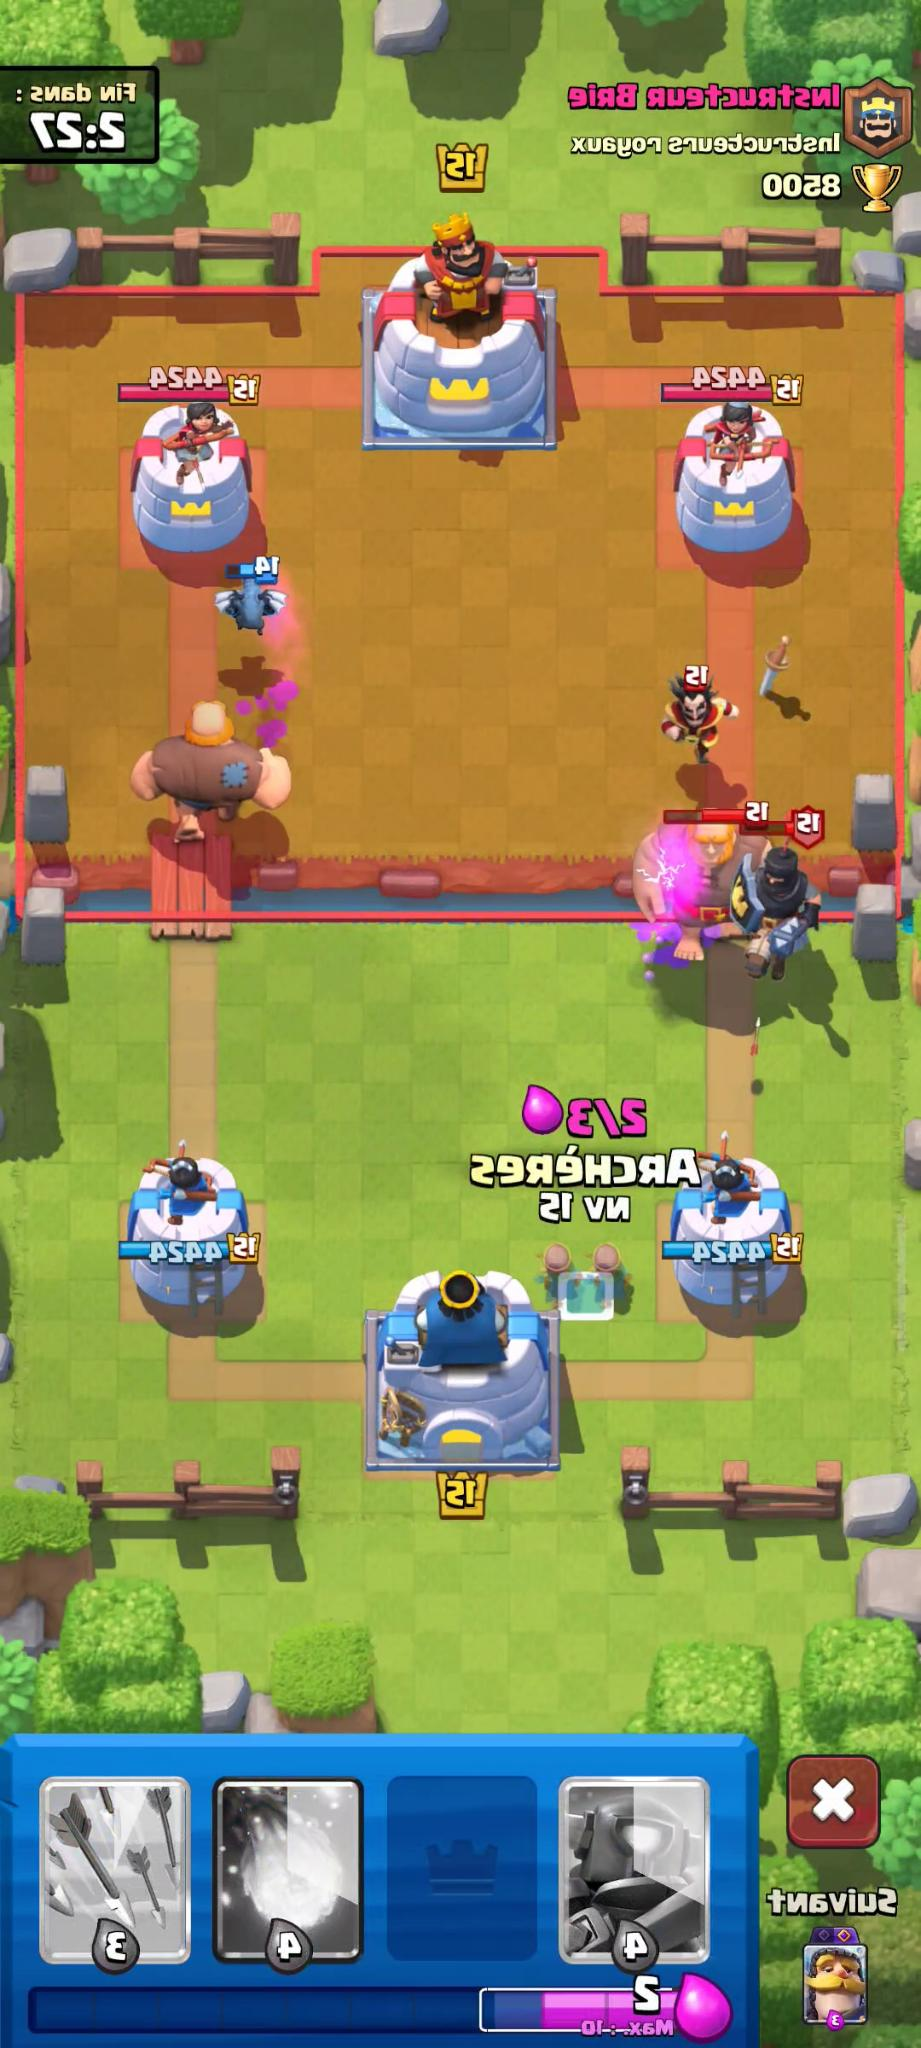archere: (515, 1232, 585, 1326), (585, 1229, 631, 1328)
gargouille: (199, 546, 295, 652)
geant: (116, 697, 312, 859), (594, 799, 773, 973)
